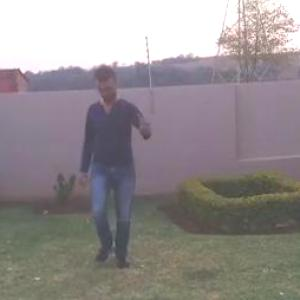takeoff-hand: (127, 100, 156, 143)
